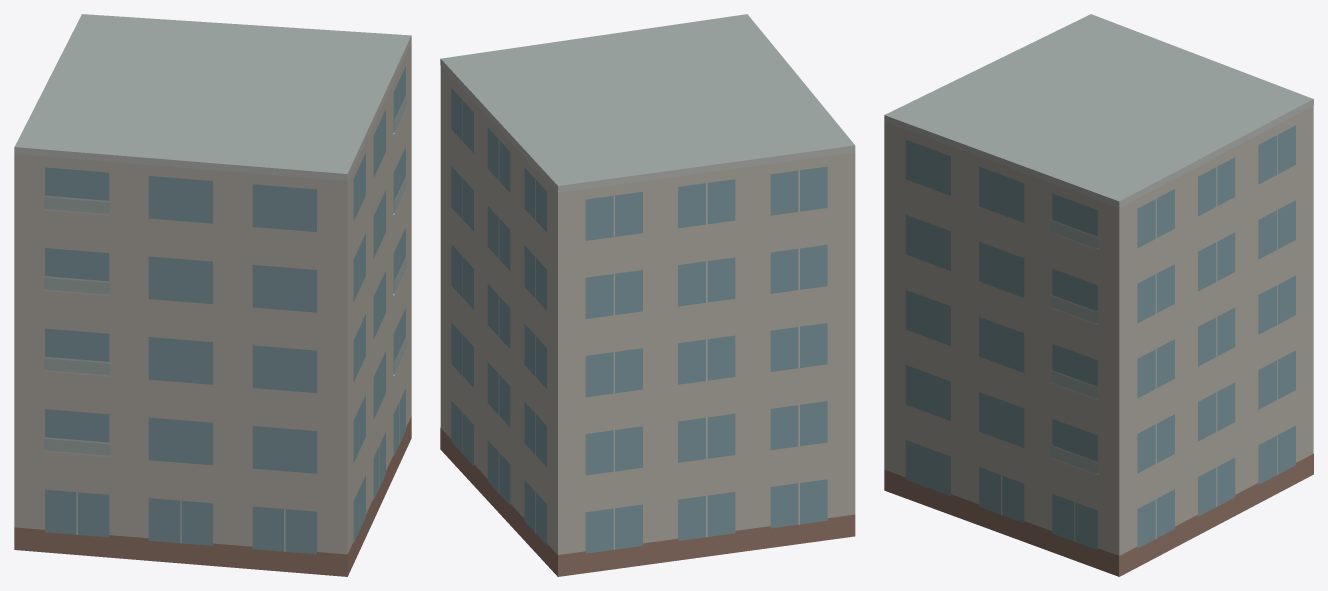
File: survey-upis-32851090.glb
The picture shows the model from 3 angles, left to right: view 1: azimuth 30°, elevation 25°; view 2: azimuth 150°, elevation 25°; view 3: azimuth 270°, elevation 25°; orthographic projection. The views are drawn at different scales.
Visible parts, largest first — view 1: survey-upis-32851090.tmp; view 2: survey-upis-32851090.tmp; view 3: survey-upis-32851090.tmp.
Boxes of the visible parts, x1=… form: survey-upis-32851090.tmp: x1=14, y1=14, x2=411, y2=576; survey-upis-32851090.tmp: x1=440, y1=14, x2=855, y2=576; survey-upis-32851090.tmp: x1=884, y1=14, x2=1313, y2=576.
Size of the model in its own units: 15.22 by 14.2 by 14.73.
